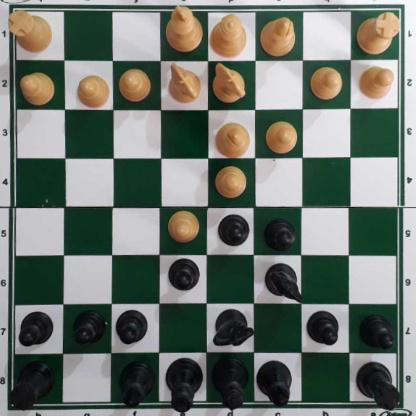black-bishop: (119, 361, 156, 410), (257, 363, 293, 408)
black-king: (165, 357, 201, 415)
black-knight: (265, 265, 304, 304), (215, 310, 252, 349)
black-pawn: (19, 311, 54, 349), (360, 315, 395, 351), (167, 259, 201, 295), (307, 312, 339, 349), (217, 215, 250, 250), (262, 219, 297, 252), (73, 312, 105, 347), (116, 311, 148, 345)
black-queen: (211, 360, 249, 411)
black-rook: (355, 361, 402, 413), (12, 364, 57, 410)
white-bishop: (261, 16, 297, 58), (215, 123, 251, 159)
white-king: (166, 6, 204, 56)
white-knight: (212, 65, 246, 104), (168, 65, 202, 104)
white-pawn: (357, 67, 397, 101), (20, 72, 57, 106), (77, 75, 110, 110), (310, 68, 344, 101), (266, 122, 299, 155), (167, 213, 201, 245), (216, 167, 248, 201), (119, 70, 151, 102)
white-queen: (211, 14, 248, 60)
white-rook: (9, 10, 53, 54), (357, 13, 402, 56)
